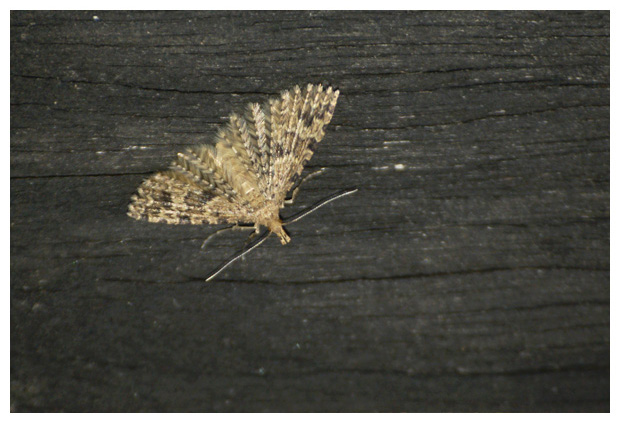Alucitidae: (116, 77, 367, 282)
moth: (118, 79, 369, 284)
